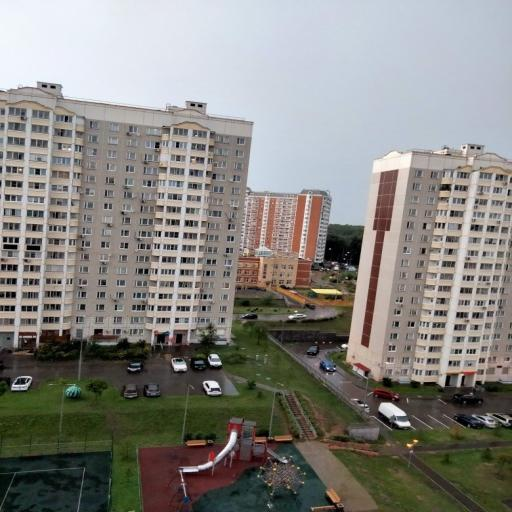bottle: (203, 381, 221, 396), (144, 383, 160, 397), (192, 357, 205, 370)
phone: (269, 382, 284, 436), (182, 384, 194, 443)
